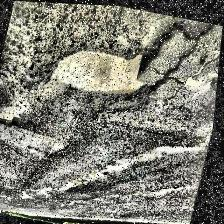pothole: (48, 36, 154, 104), (0, 91, 38, 133)
